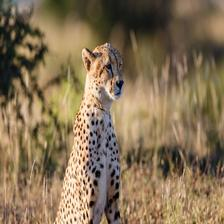Cheetah: (52, 37, 127, 224)
